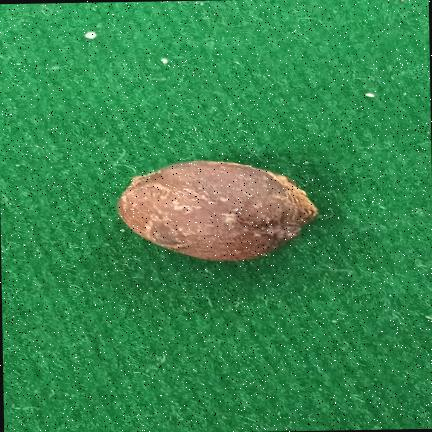full-black: (117, 160, 317, 261)
